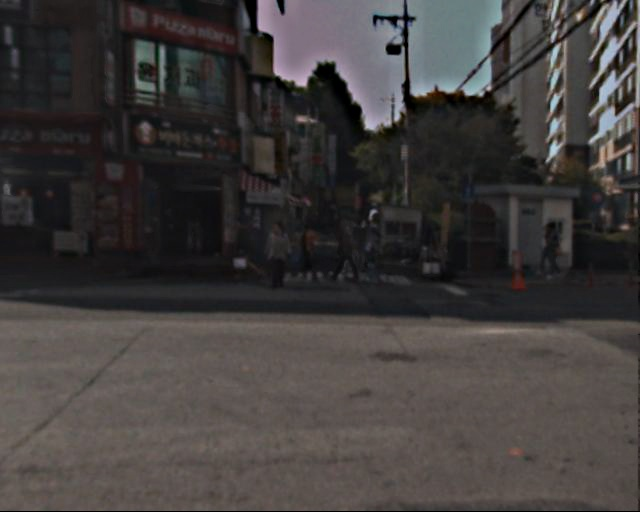person: (541, 220, 568, 285), (336, 218, 363, 283), (234, 220, 260, 283), (265, 223, 290, 285), (295, 222, 316, 274), (363, 235, 384, 285), (360, 217, 383, 256)
